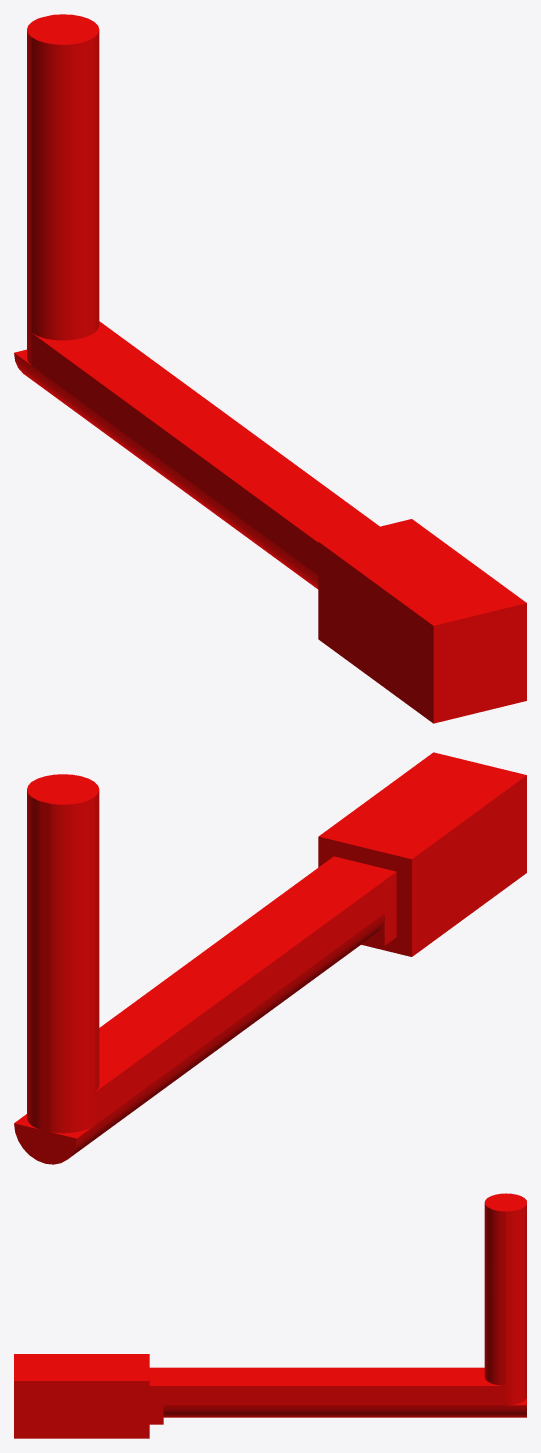
File: Lstick.obj
3 renders of one model, top to bottom at view 1: azimuth 30°, elevation 25°; view 2: azimuth 150°, elevation 25°; view 3: azimuth 270°, elevation 25°, orthographic. The views are drawn at different scales.
Visible parts, largest first — view 1: Mesh1 Model; view 2: Mesh1 Model; view 3: Mesh1 Model.
Part boxes in pixels (x1,y1,x2,y2): Mesh1 Model: [14, 14, 526, 723]; Mesh1 Model: [14, 752, 526, 1164]; Mesh1 Model: [14, 1193, 526, 1438].
Bounding box in the file's own units: 0.0298 × 0.1149 × 0.24.
